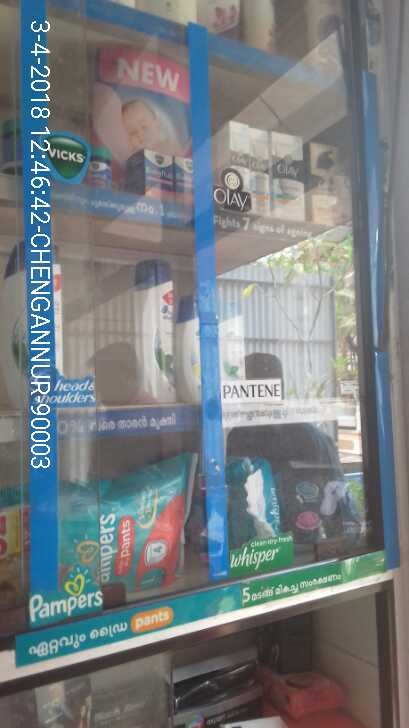vicks: (92, 144, 200, 206)
